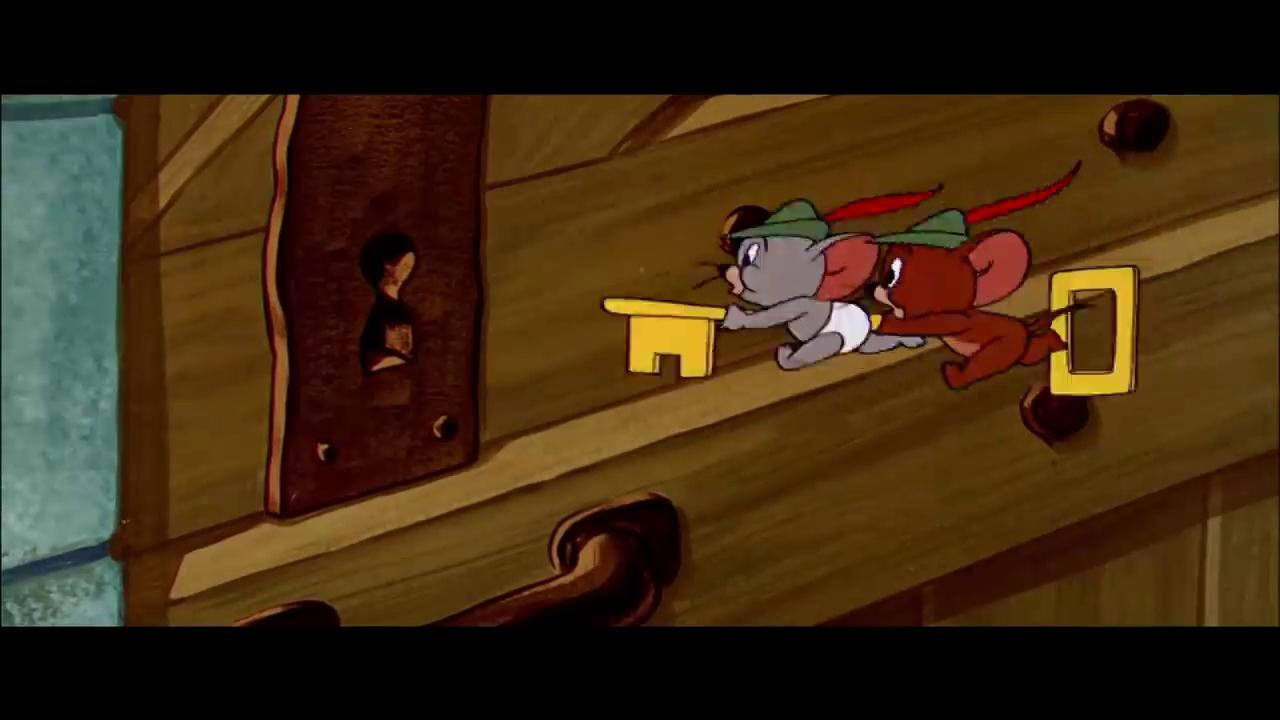Jerry: (867, 227, 1100, 394)
